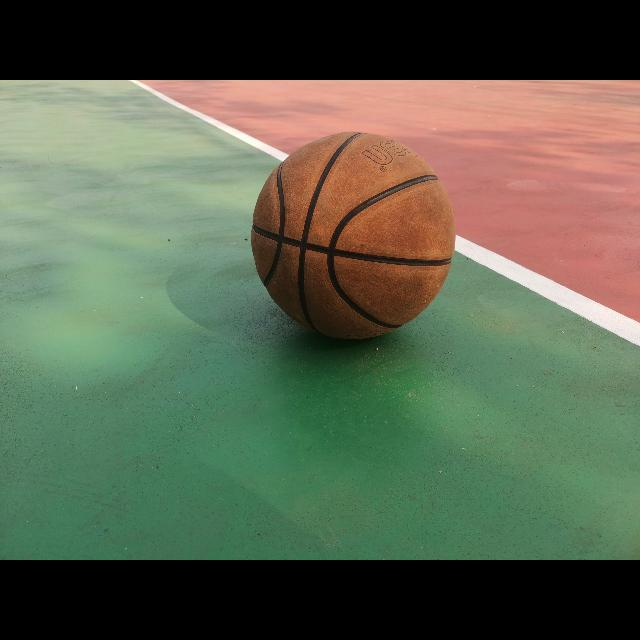basketball: (254, 132, 456, 338)
